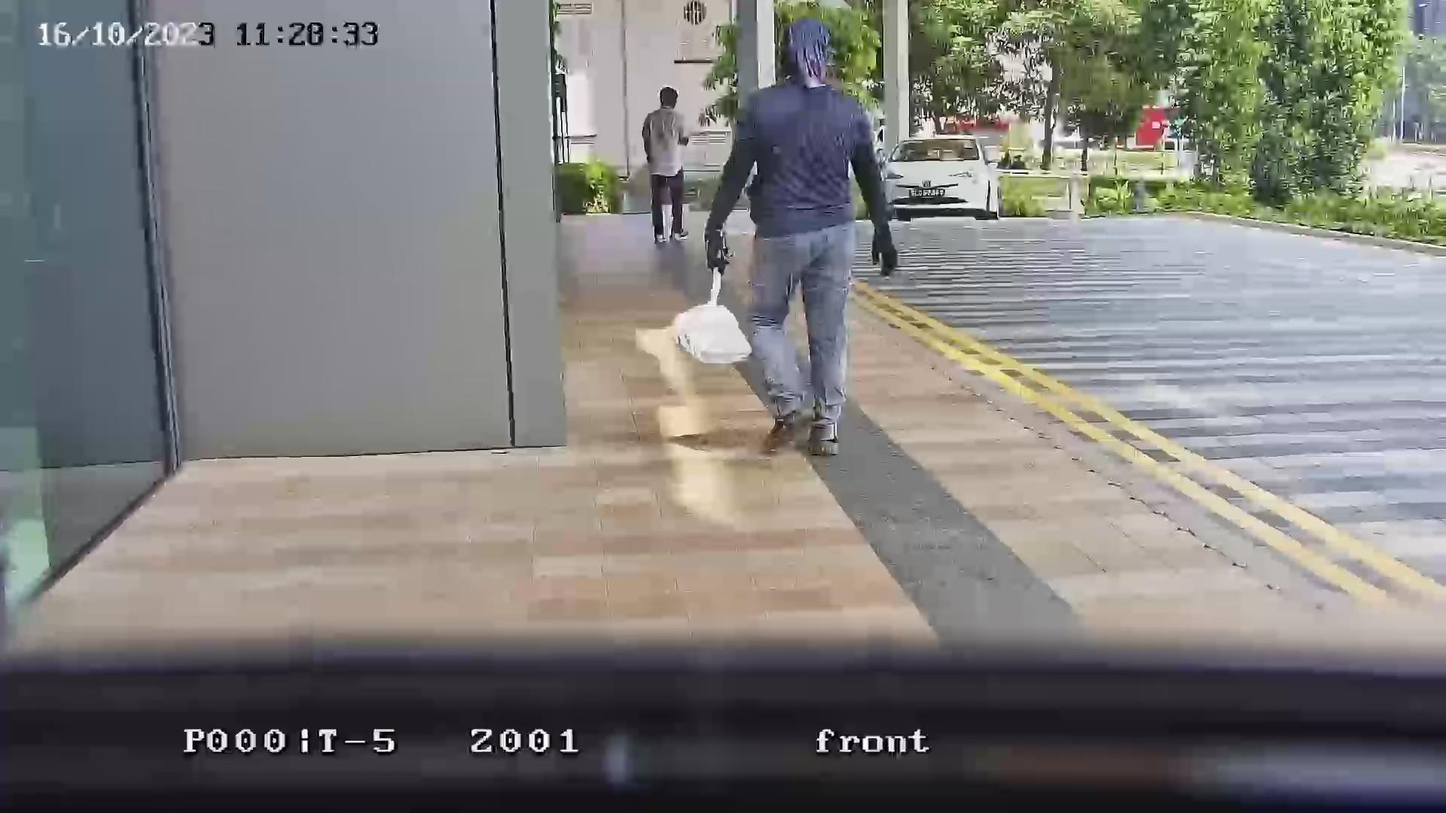person: (703, 16, 898, 457), (642, 86, 692, 243)
